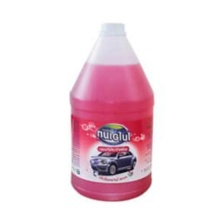cleaning_solution: (66, 20, 157, 204)
